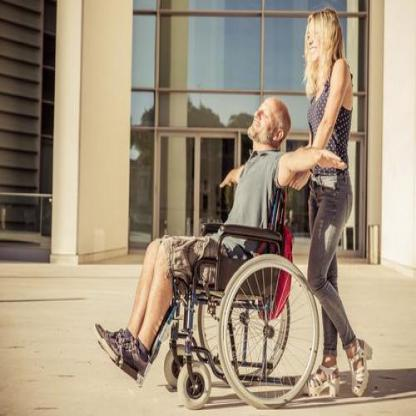wheelchair: (112, 102, 336, 414)
